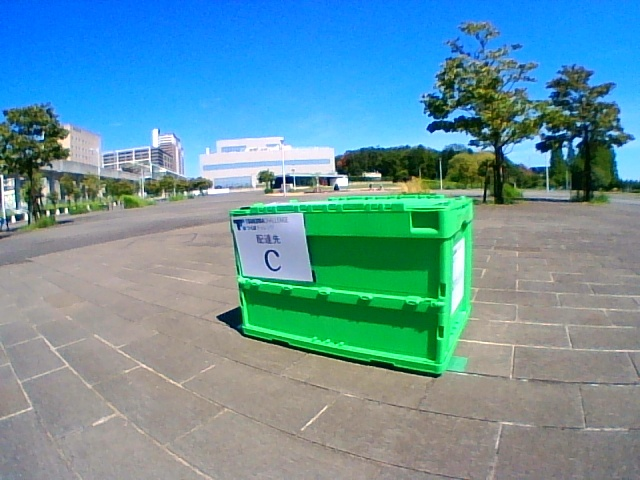green_box: (229, 194, 472, 375)
tag_c: (244, 219, 298, 276)
